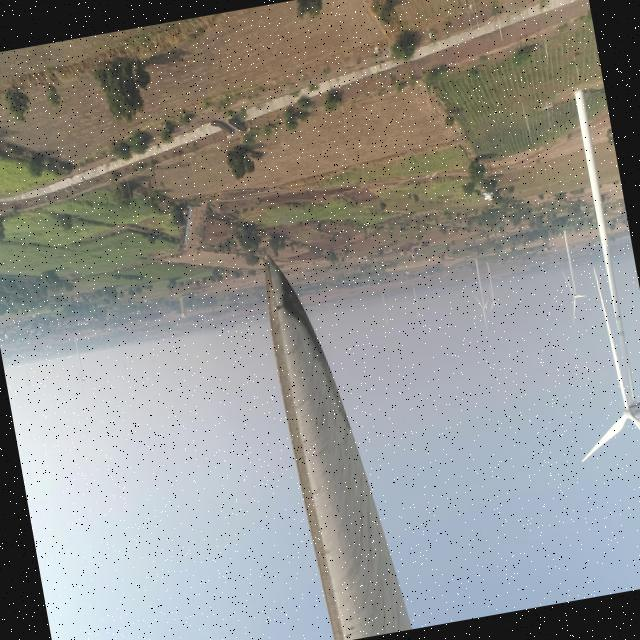Dirt: (264, 253, 418, 639)
Oil LEAKAGE: (276, 263, 352, 430)
